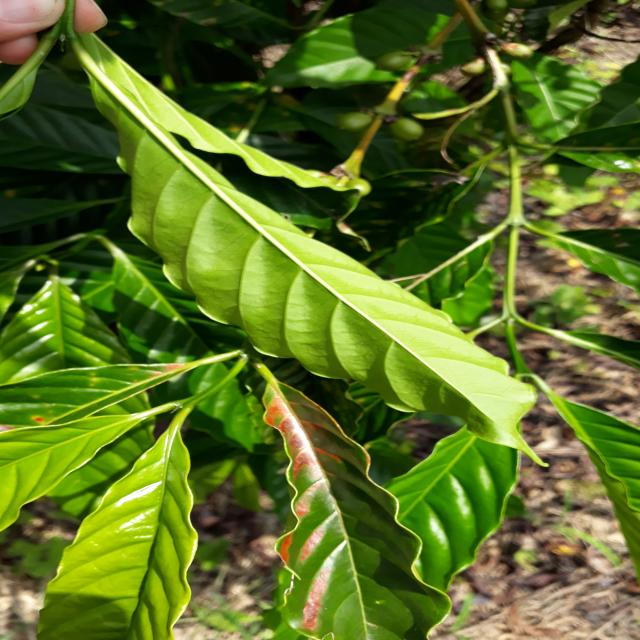Sanas: (75, 33, 538, 456)
